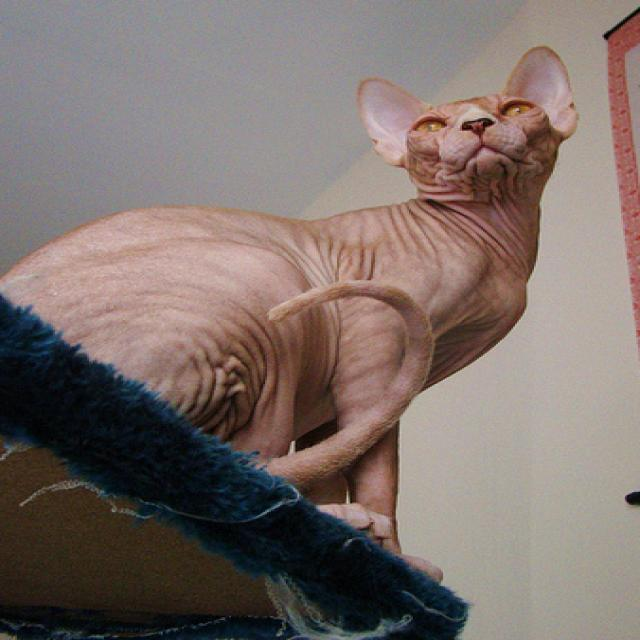Sphynx: (0, 44, 583, 580)
